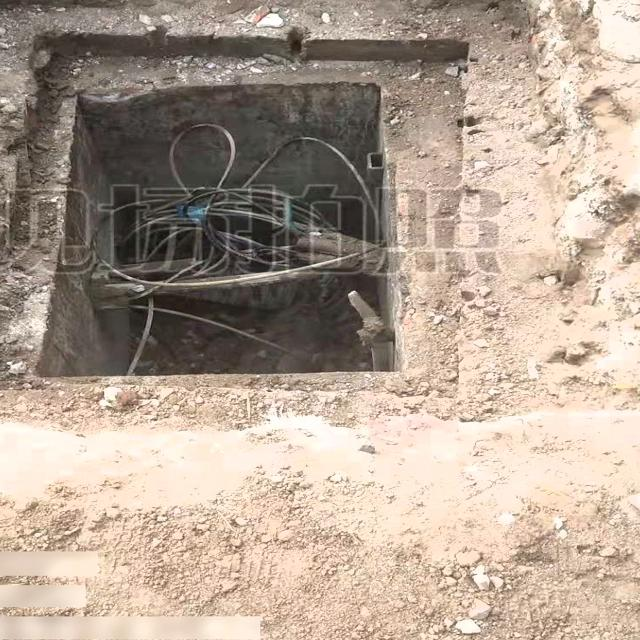lose: (29, 45, 404, 380)
